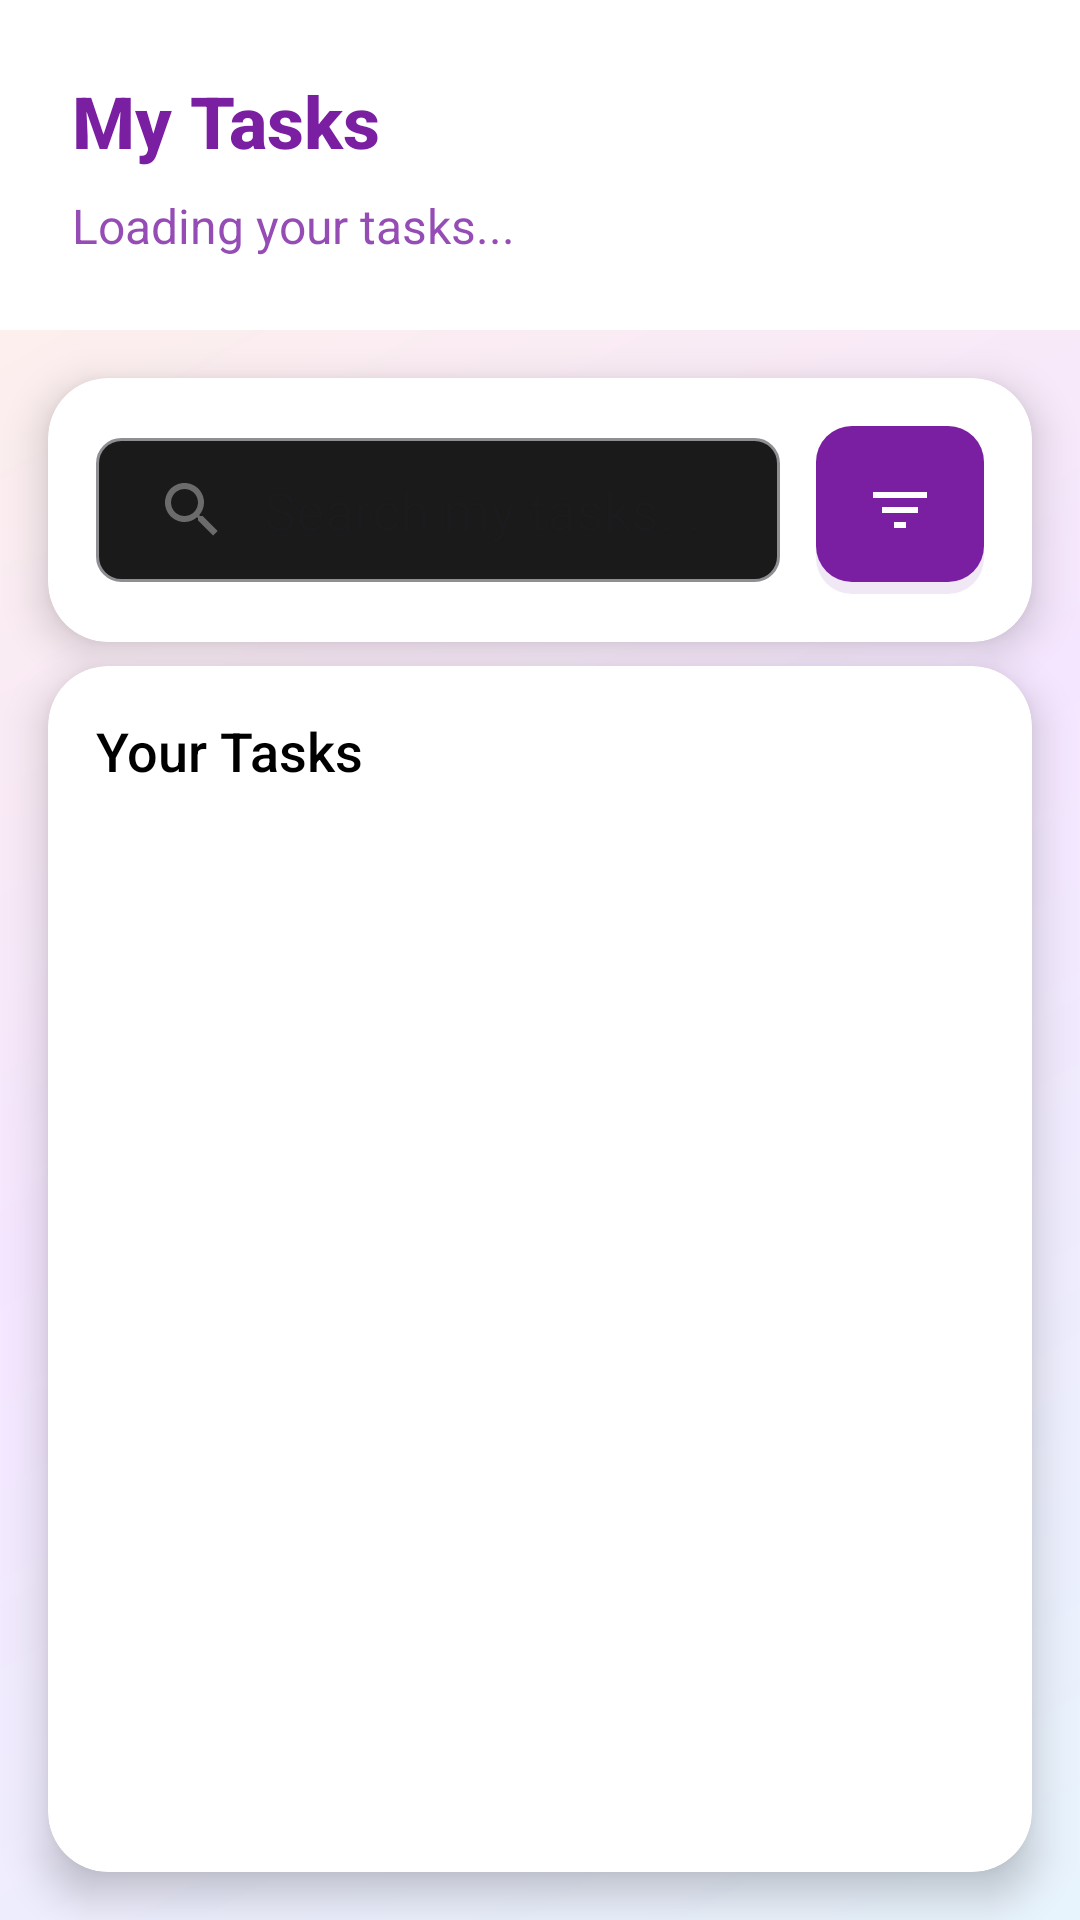

Where icons sit on this 1080px x 1920px app screen, as (x1=x1, y1=y1, x2=x2, y2=y2):
Filter my tasks: (x1=816, y1=426, x2=984, y2=582)
